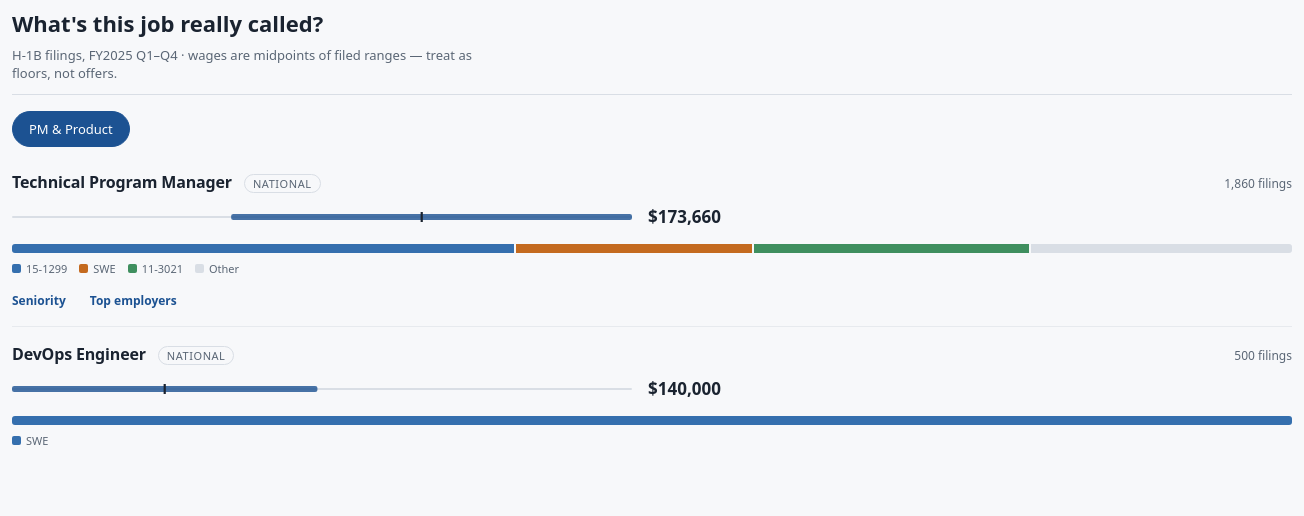
Test: TitleLens › tier disclosure reveals seniority sub-rows only after expansion
Expected: the text "Technical Program Manager" is shown, [12,171,232,193]
Expected: the text "$162,000" is not shown
Click the button "Seniority" at (39, 300), box [12,292,66,309]
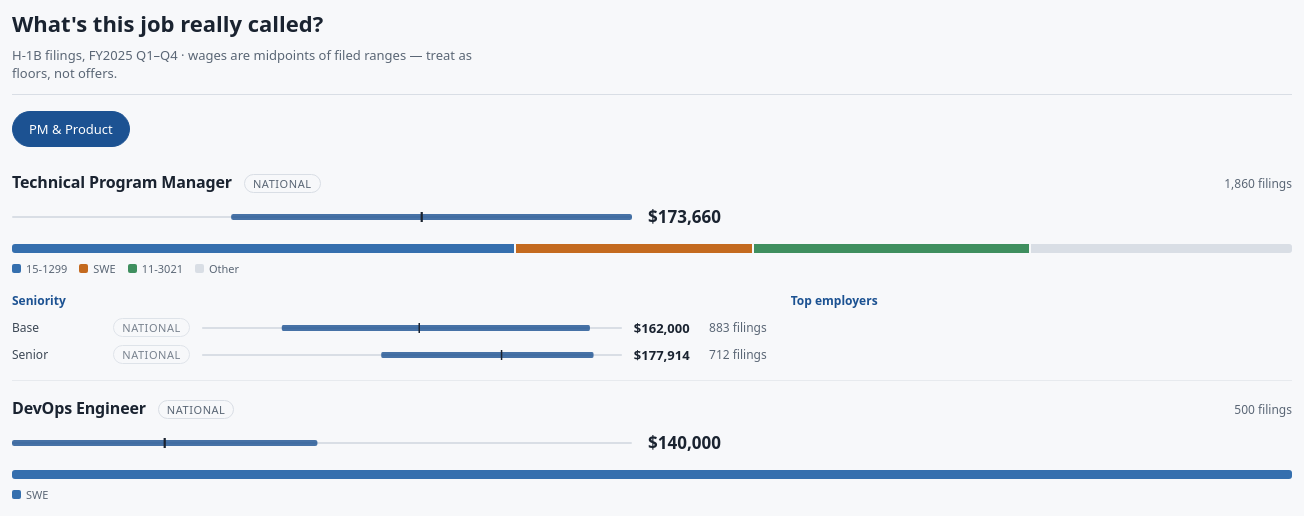
Expected: the text "$162,000" is shown, [634,318,697,336]
Expected: the text "$177,914" is shown, [634,346,697,364]
